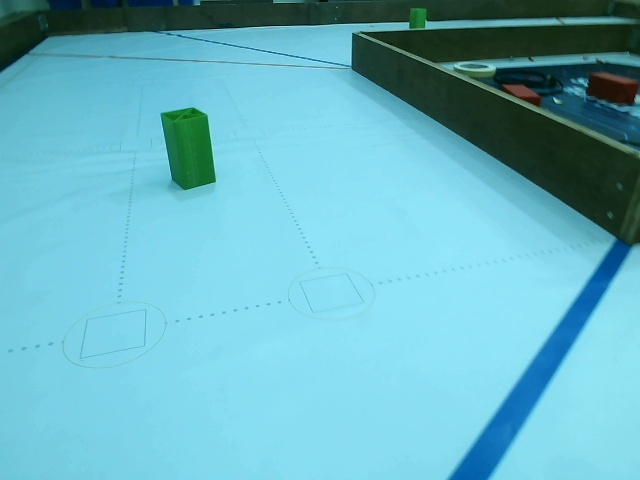green: (162, 108, 217, 192)
